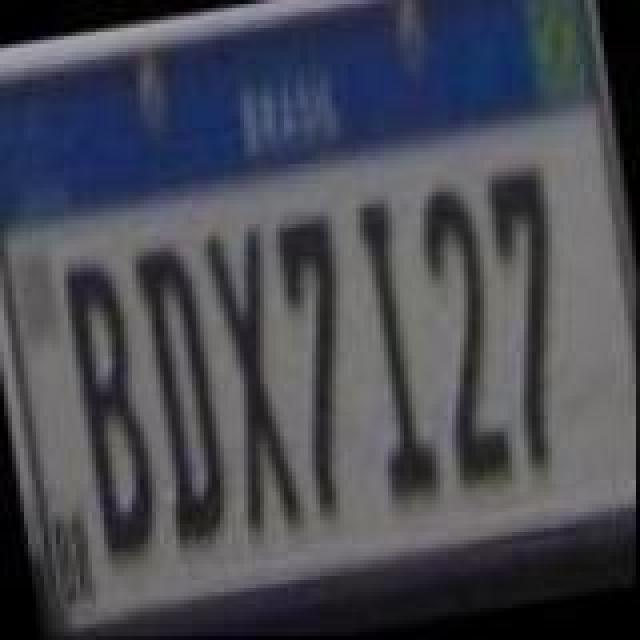2: (414, 180, 518, 492)
7: (274, 210, 378, 526), (482, 166, 586, 478)
B: (60, 258, 164, 562)
D: (130, 236, 238, 548)
I: (338, 192, 442, 508)
X: (204, 220, 308, 544)
